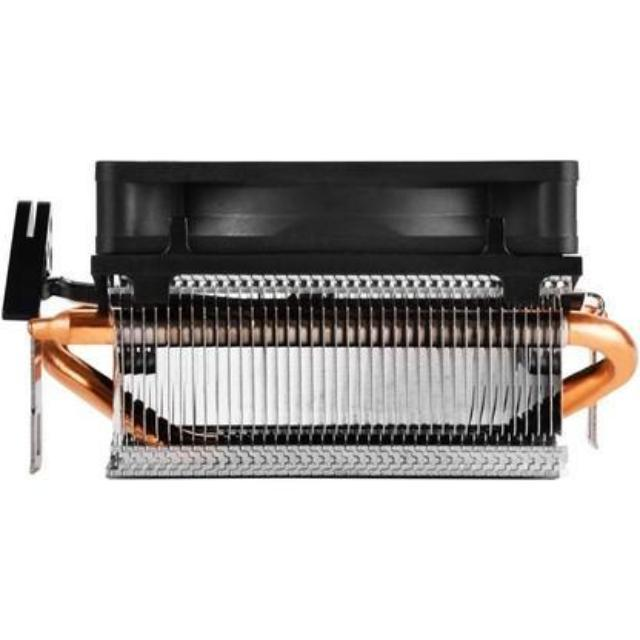CPU_Fan: (5, 129, 640, 477)
